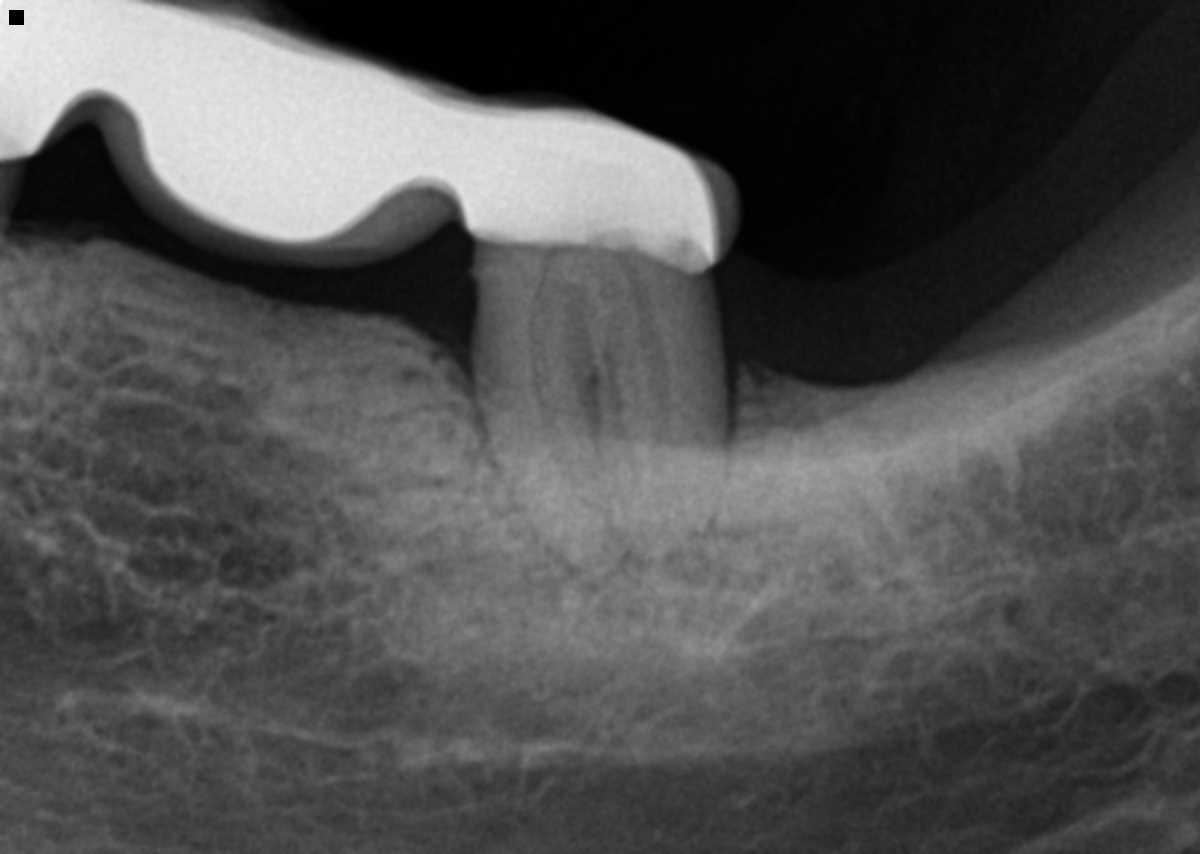Apical Lesion: (621, 517, 717, 582)
Distal Canal: (634, 289, 669, 502)
Distal Root: (588, 285, 727, 548)
Mesial Canal: (525, 315, 609, 513)
Mesial Root: (474, 312, 626, 574)
